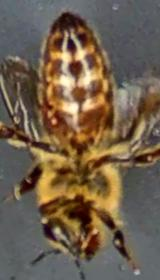varroa_mite: (41, 108, 68, 136)
